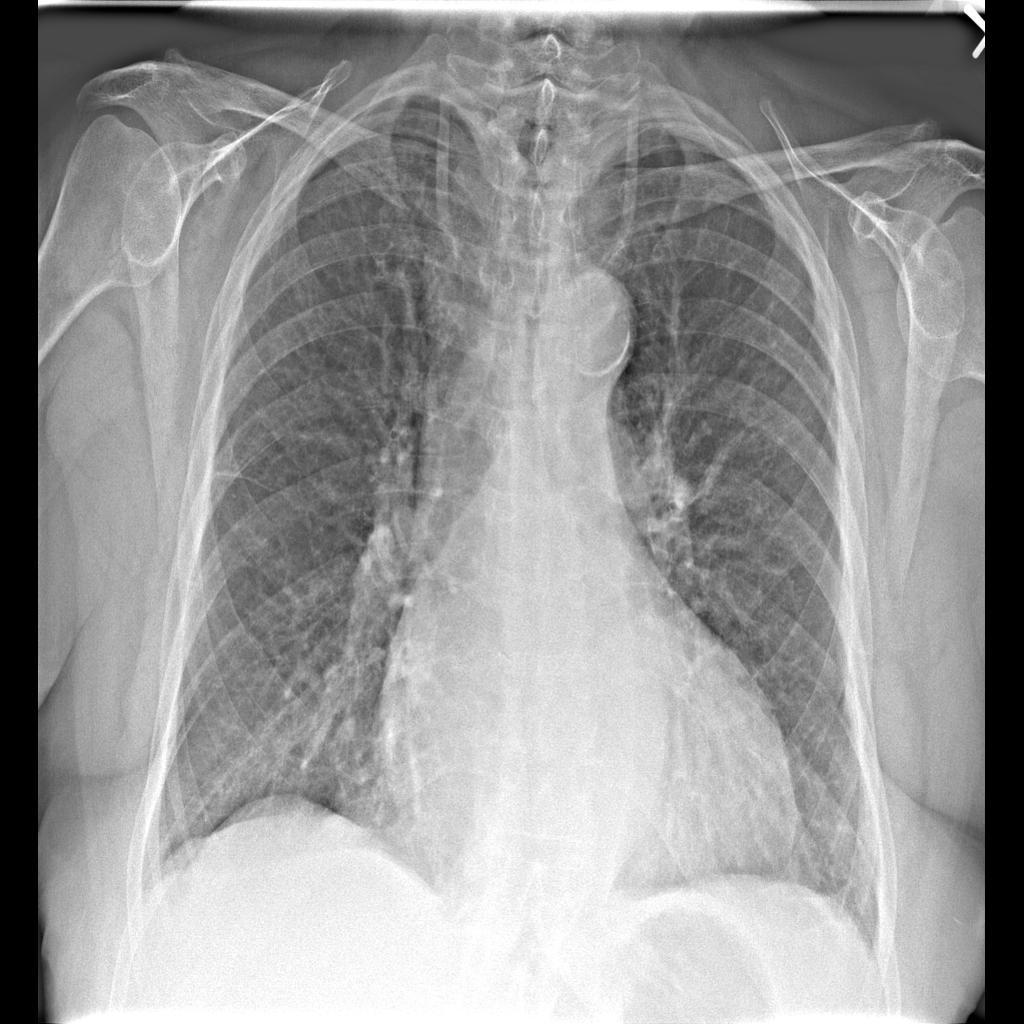Nodule: (334, 712, 364, 754)
